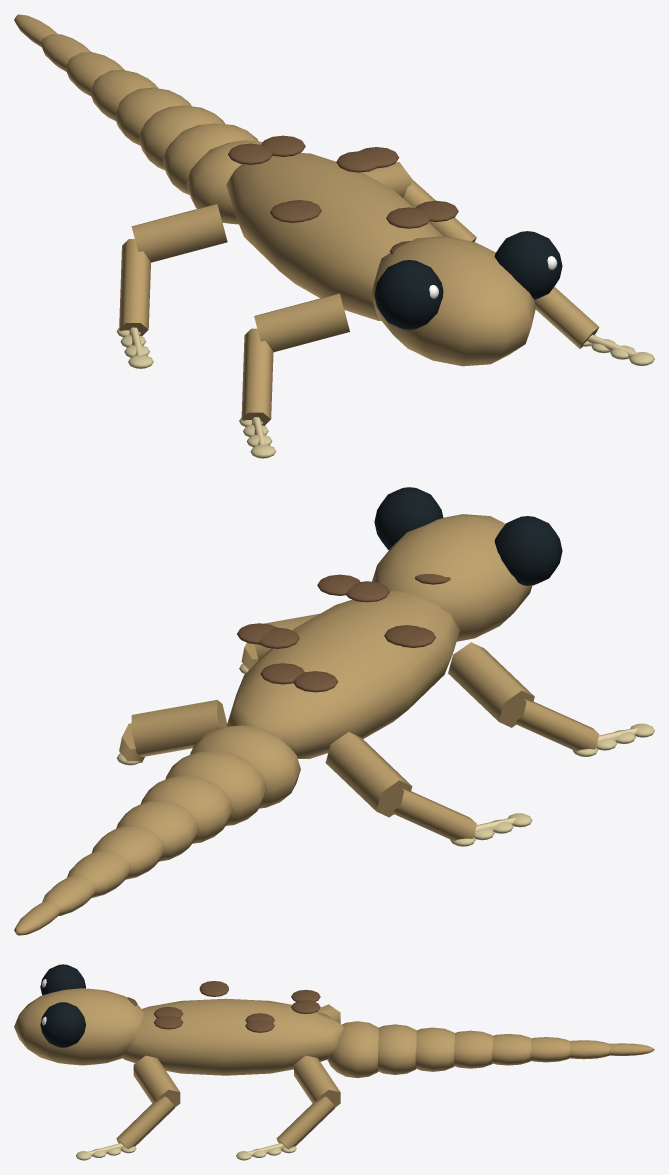
File: gecko.glb
The picture shows the model from 3 angles, top to bottom: view 1: azimuth 30°, elevation 25°; view 2: azimuth 150°, elevation 25°; view 3: azimuth 270°, elevation 25°; orthographic projection. The views are drawn at different scales.
Visible parts, largest first — view 1: skin (×17), eye (×2), accent (×5); view 2: skin (×15), eye (×2), accent (×5); view 3: skin (×14), eye (×2), accent (×3).
Boxes of the visible parts, x1=… form: skin (×17): x1=14, y1=14, x2=599, y2=425; eye (×2): x1=374, y1=231, x2=562, y2=329; accent (×5): x1=228, y1=135, x2=458, y2=228; skin (×15): x1=14, y1=514, x2=599, y2=935; eye (×2): x1=374, y1=487, x2=562, y2=585; accent (×5): x1=258, y1=574, x2=389, y2=692; skin (×14): x1=14, y1=988, x2=654, y2=1149; eye (×2): x1=40, y1=964, x2=85, y2=1047; accent (×3): x1=154, y1=1000, x2=320, y2=1032.
Size of the model in its own units: 2.65 by 1.09 by 5.6.
